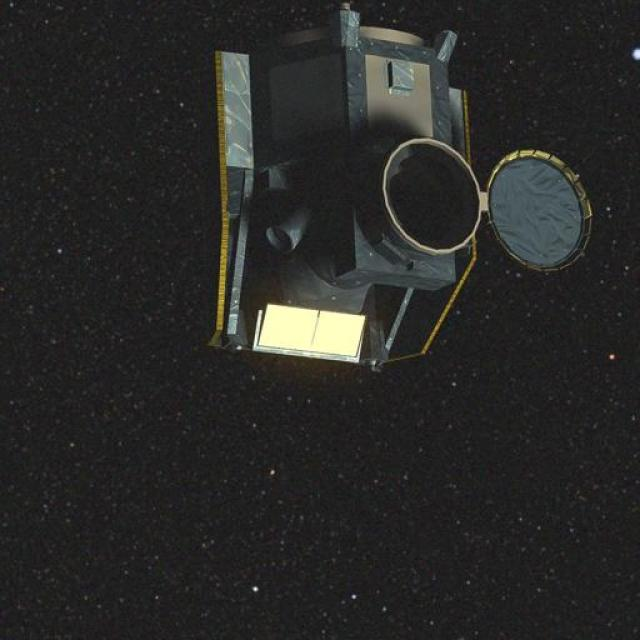cheops: (187, 12, 574, 360)
